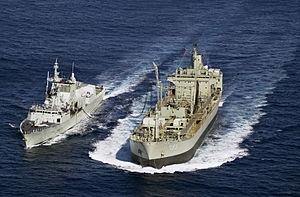warship: (126, 46, 228, 168), (14, 60, 105, 146)
